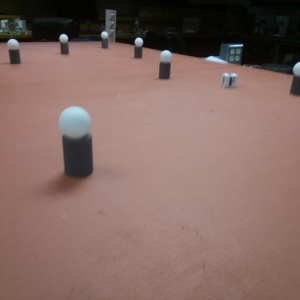obstacle: (58, 106, 97, 179), (157, 49, 173, 80), (289, 61, 300, 98), (7, 38, 20, 65), (133, 37, 144, 58), (59, 34, 70, 54), (100, 32, 110, 49)
